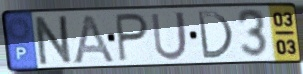3: (237, 7, 268, 61)
A: (70, 13, 117, 65)
D: (195, 10, 236, 61)
N: (33, 13, 75, 67)
P: (114, 12, 151, 64)
U: (149, 10, 190, 63)
